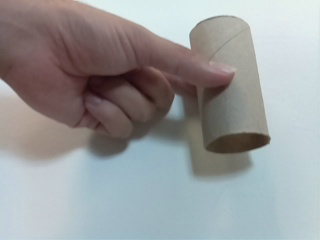rollo papel: (187, 13, 273, 158)
